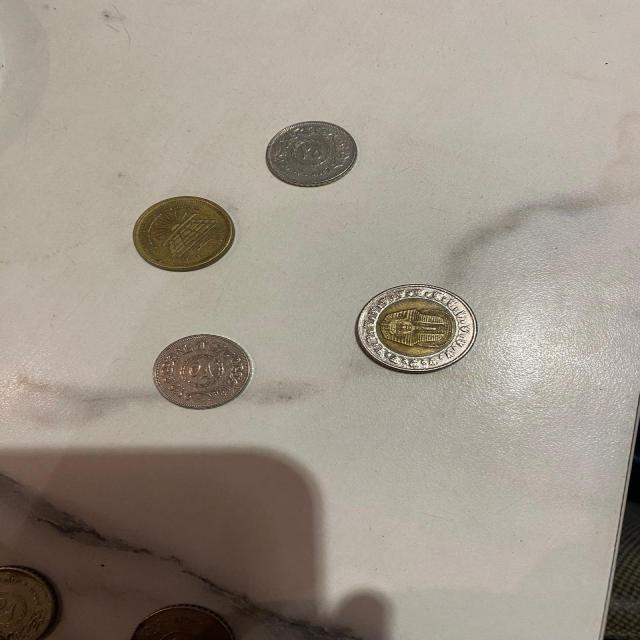Half Pound: (122, 179, 246, 284)
One Pound: (355, 269, 482, 389)
quarter pound: (145, 318, 261, 419), (250, 112, 365, 190), (0, 548, 67, 640)
